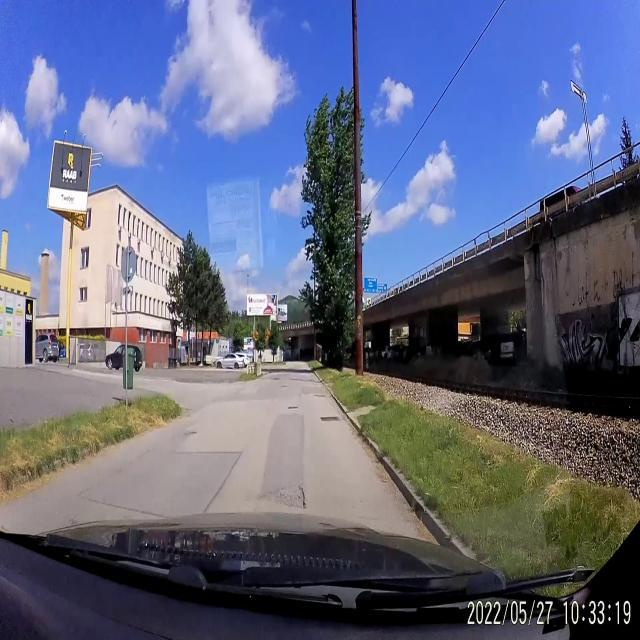Pothole: (258, 481, 308, 510), (318, 413, 341, 425), (181, 428, 202, 439), (286, 402, 302, 414), (262, 376, 286, 382), (276, 382, 291, 390), (313, 393, 332, 398)
